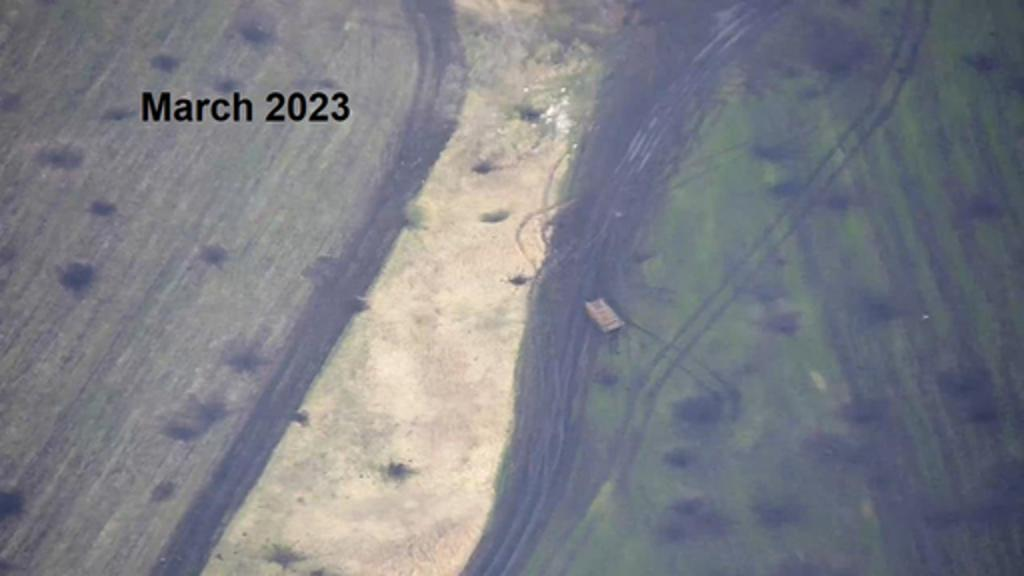APC-IFV: (576, 286, 626, 342)
